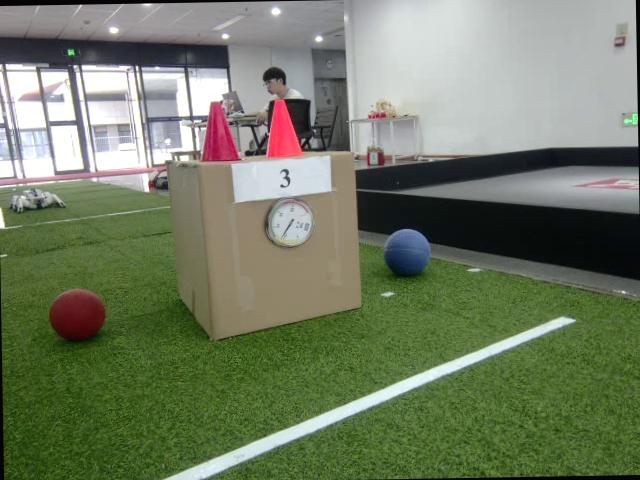3: (277, 166, 292, 190)
Dashboard: (264, 196, 316, 250)
blue_ball: (381, 225, 432, 278)
orange_barrel: (262, 97, 306, 158)
red_ball: (48, 286, 108, 342)
red_barrel: (194, 98, 244, 163)
ssi: (304, 221, 310, 232)
